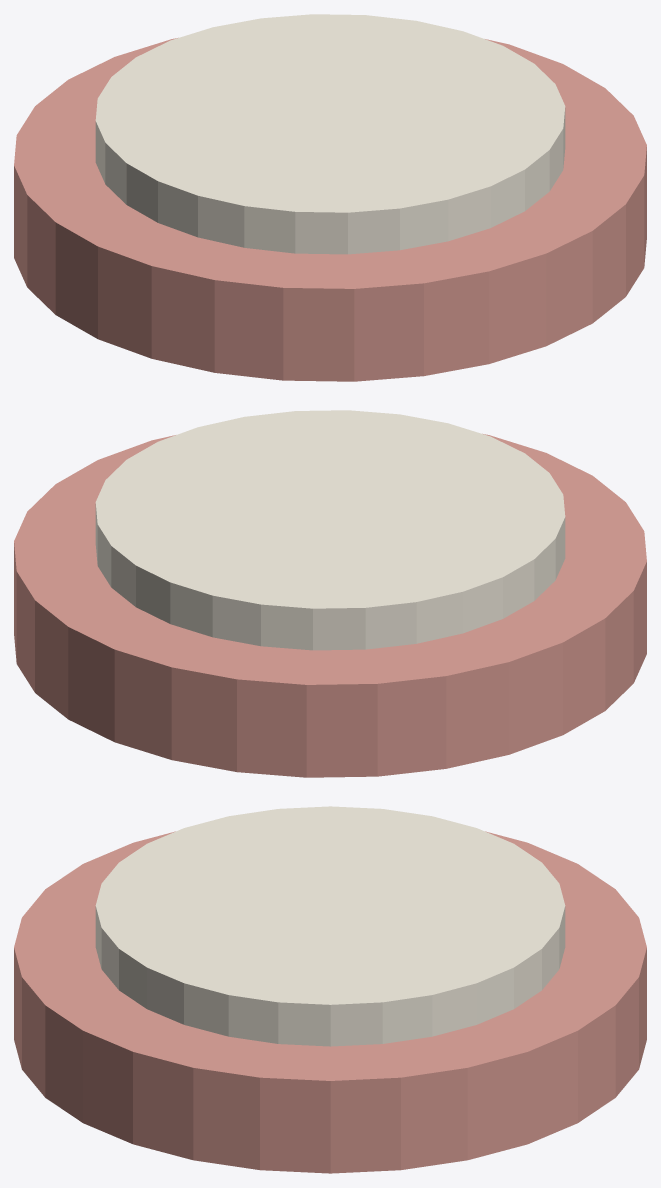
Rendered from dog_bed.glb.
3 renders of one model, top to bottom at view 1: azimuth 30°, elevation 25°; view 2: azimuth 150°, elevation 25°; view 3: azimuth 270°, elevation 25°, orthographic.
Parts seen in each view (by area): view 1: part_00, part_01; view 2: part_00, part_01; view 3: part_00, part_01.
Boxes of the visible parts, <box> form: part_00: <box>14,37,646,381</box>; part_01: <box>95,14,565,254</box>; part_00: <box>14,433,646,777</box>; part_01: <box>95,410,565,650</box>; part_00: <box>14,831,646,1173</box>; part_01: <box>95,806,565,1046</box>.
Bounding box in the file's own units: 1.24 × 0.29 × 1.24.
